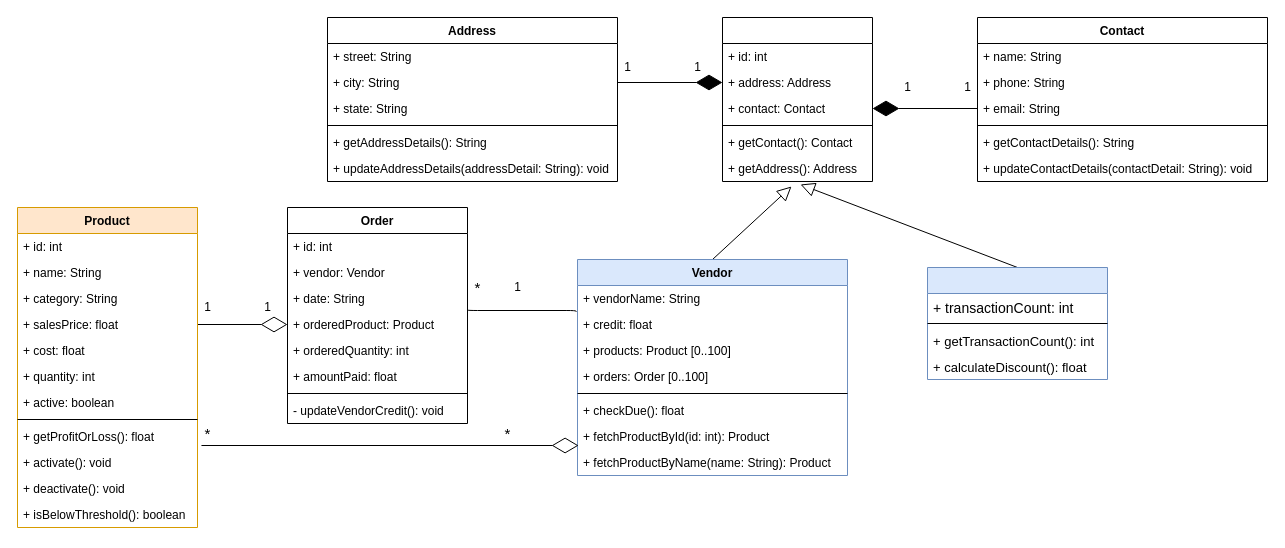
The diagram is 1285 pixels wide and 548 high, and some of its shapes have lost their labels. The box of each missing label's shape, as (x1, y1, x2, y2) in pixels:
Business_Partner: (722, 16, 872, 182)
Customer: (926, 266, 1108, 380)
